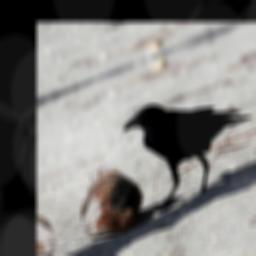Crow: (118, 68, 256, 220)
